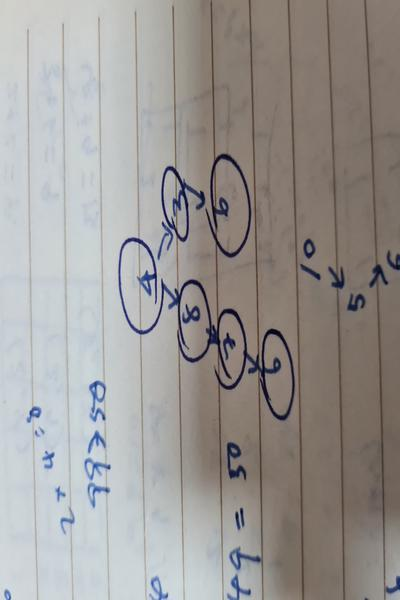arrow: (154, 223, 172, 261), (185, 182, 206, 210), (161, 282, 178, 312), (245, 353, 260, 375), (207, 325, 218, 344)
topic: (208, 154, 251, 258), (118, 236, 162, 336), (261, 329, 295, 422), (177, 280, 210, 364), (160, 165, 191, 242), (218, 310, 246, 391)
